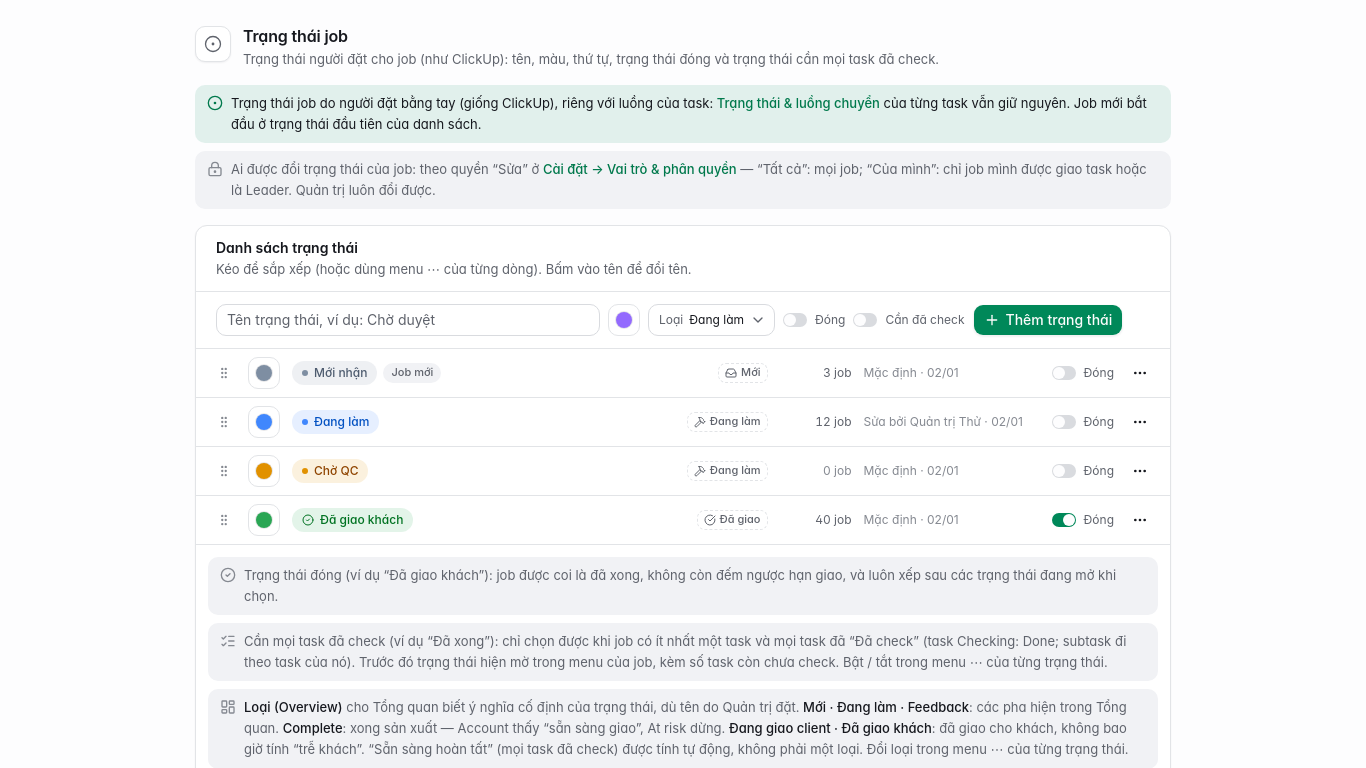
Test: Cấu hình → Trạng thái job (PD-038 / PD-045) › a stale count (409 JOB_STATUS_IN_USE) turns the confirm into the replacement form
This screenshot has width=1366, height=768.
Expected: the button "Mới nhận Job mới Mới" is shown, top-left (292, 361), bottom-right (768, 385)
What coordinates should you click on to do the following:
click the button named "Tùy chọn cho Chờ QC"
I would click on:
 (1140, 471)
Its box is top-left (1126, 457), bottom-right (1154, 485).
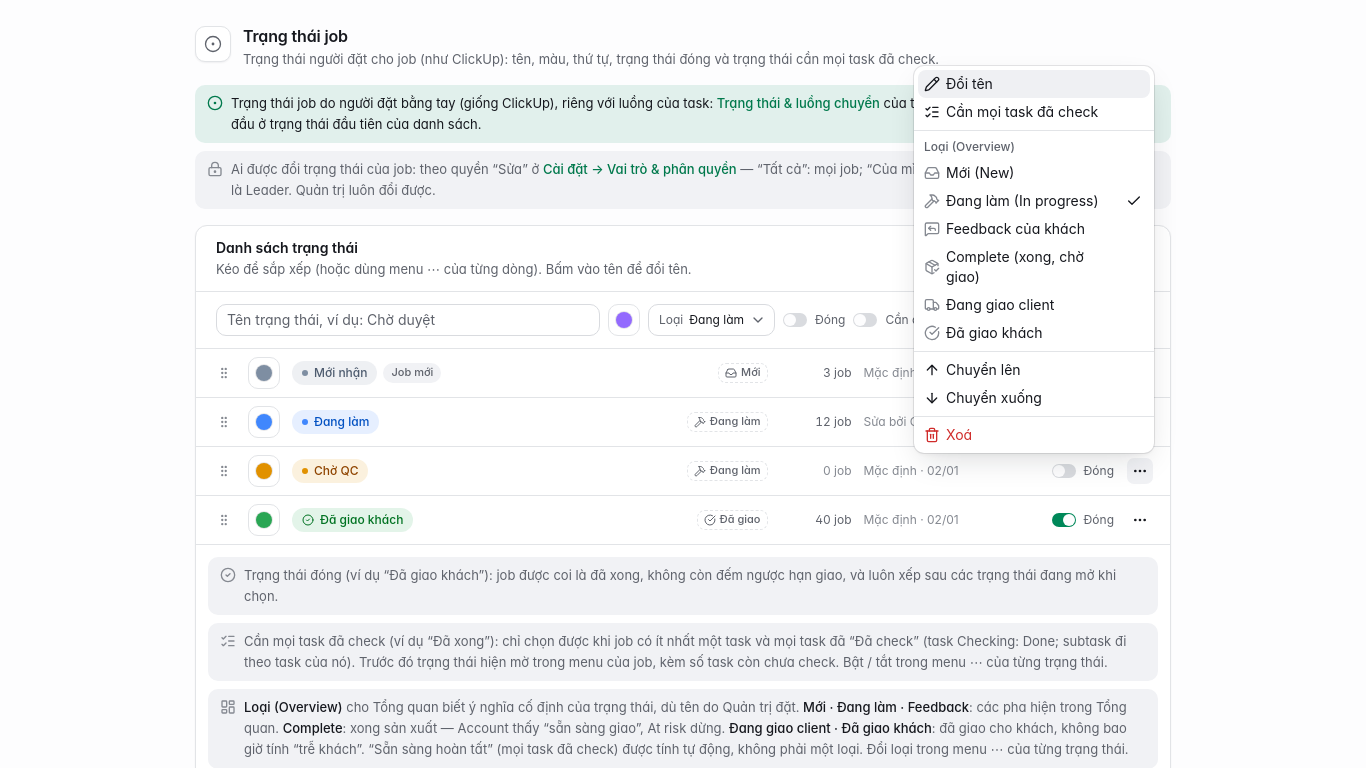
What coordinates should you click on to do the following:
click the menu item "Xoá"
I would click on:
 (948, 434)
Its box is top-left (924, 426), bottom-right (972, 443).
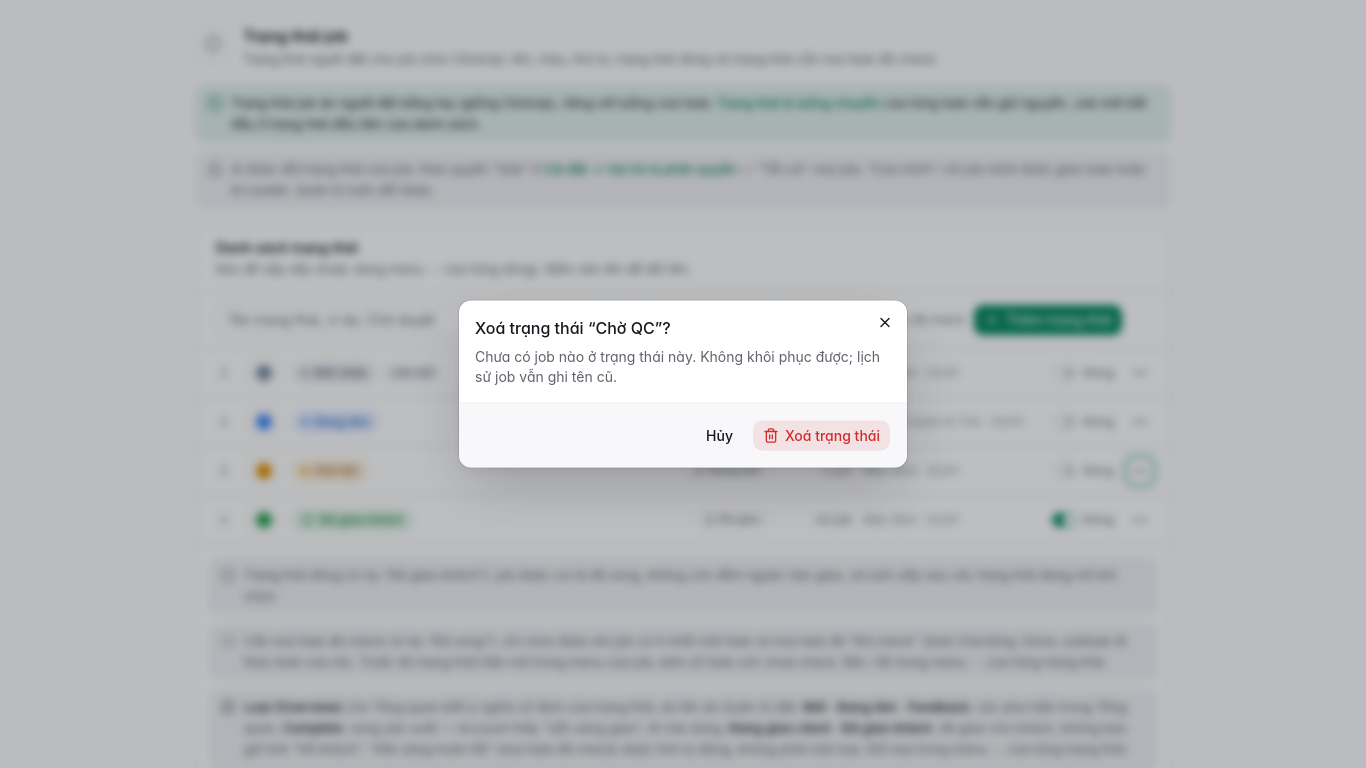
Result: the dialog is shown at top-left (459, 300), bottom-right (907, 468)
What coordinates should you click on to do the following:
click the button "Xoá trạng thái"
I would click on:
 (822, 436)
Its box is top-left (752, 420), bottom-right (891, 452).
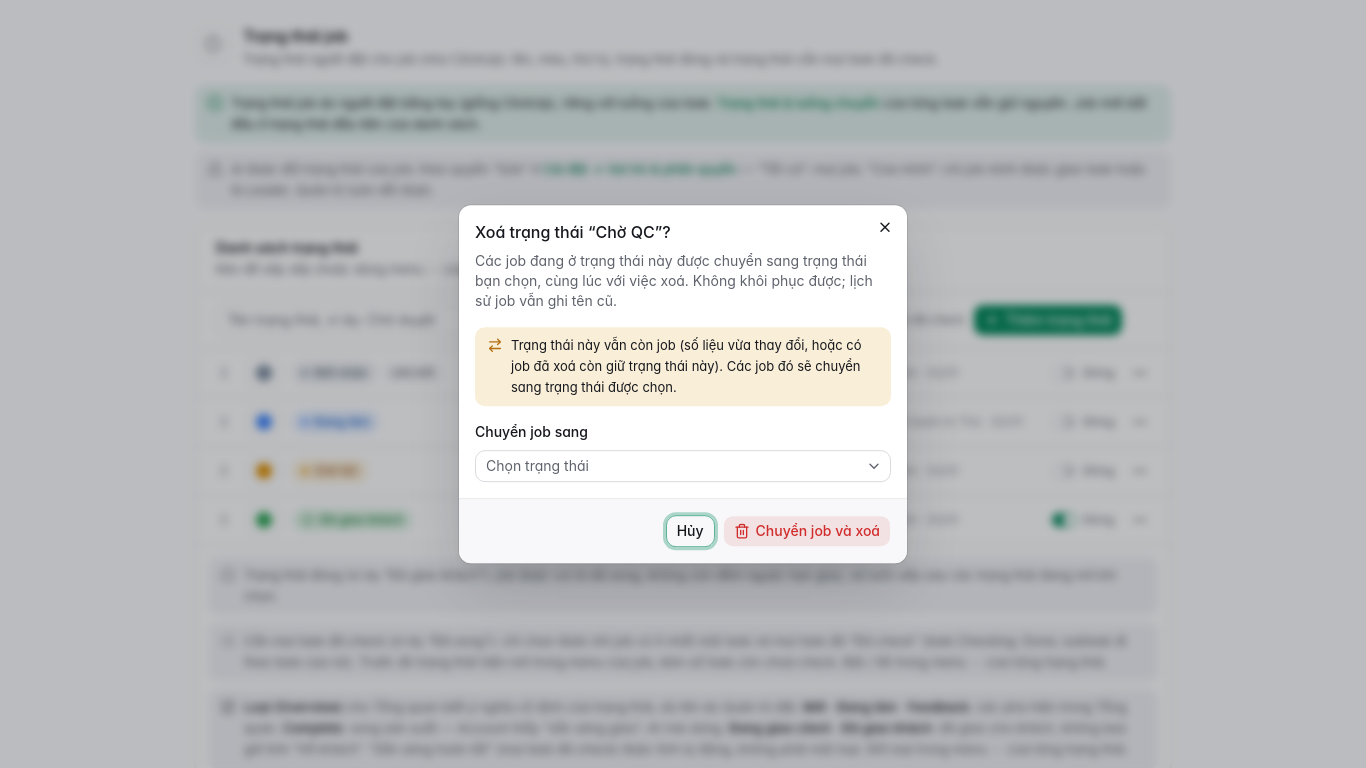
Result: the dropdown named "Chuyển job sang trạng thái" is shown at top-left (475, 450), bottom-right (891, 482)
Result: the text "Trạng thái này vẫn còn job" is shown at top-left (511, 337), bottom-right (862, 396)
Result: the button "Chuyển job và xoá" is shown at top-left (723, 515), bottom-right (891, 547)
